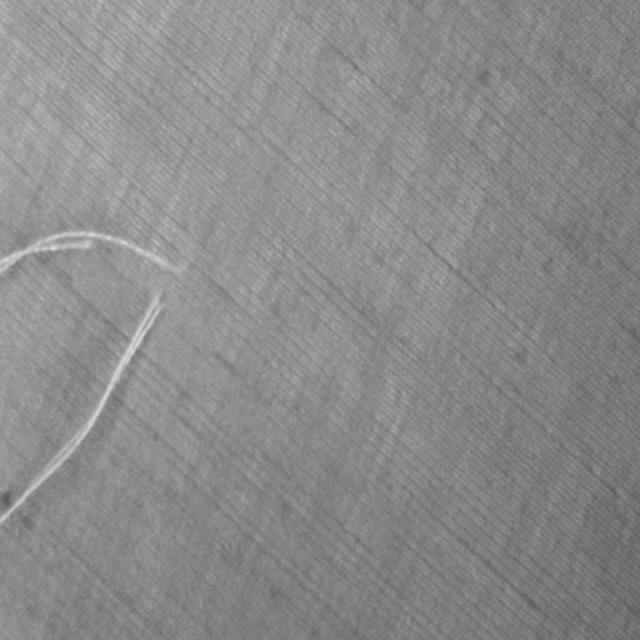Thread: (0, 287, 170, 526), (0, 228, 186, 278)
